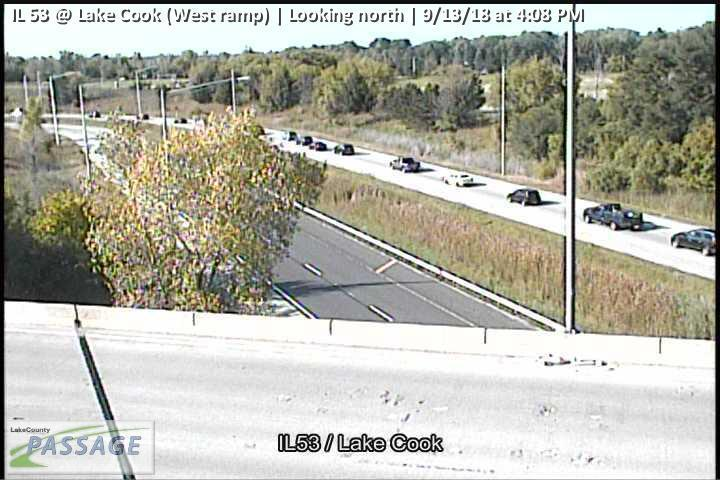SUV: (507, 189, 542, 207), (333, 144, 356, 156)
Sedan: (671, 227, 720, 257), (443, 172, 474, 188)
Truck: (582, 204, 644, 231), (389, 157, 421, 173)
